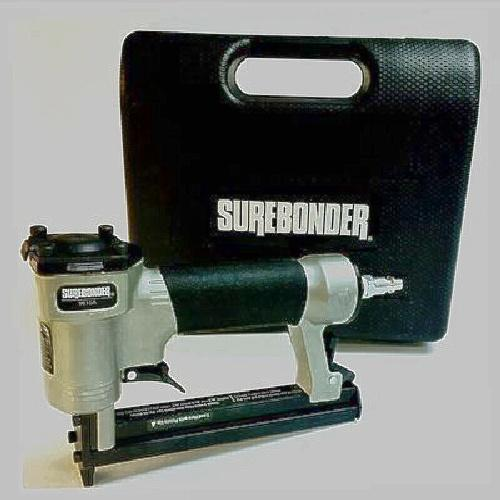stapler: (22, 226, 399, 458)
